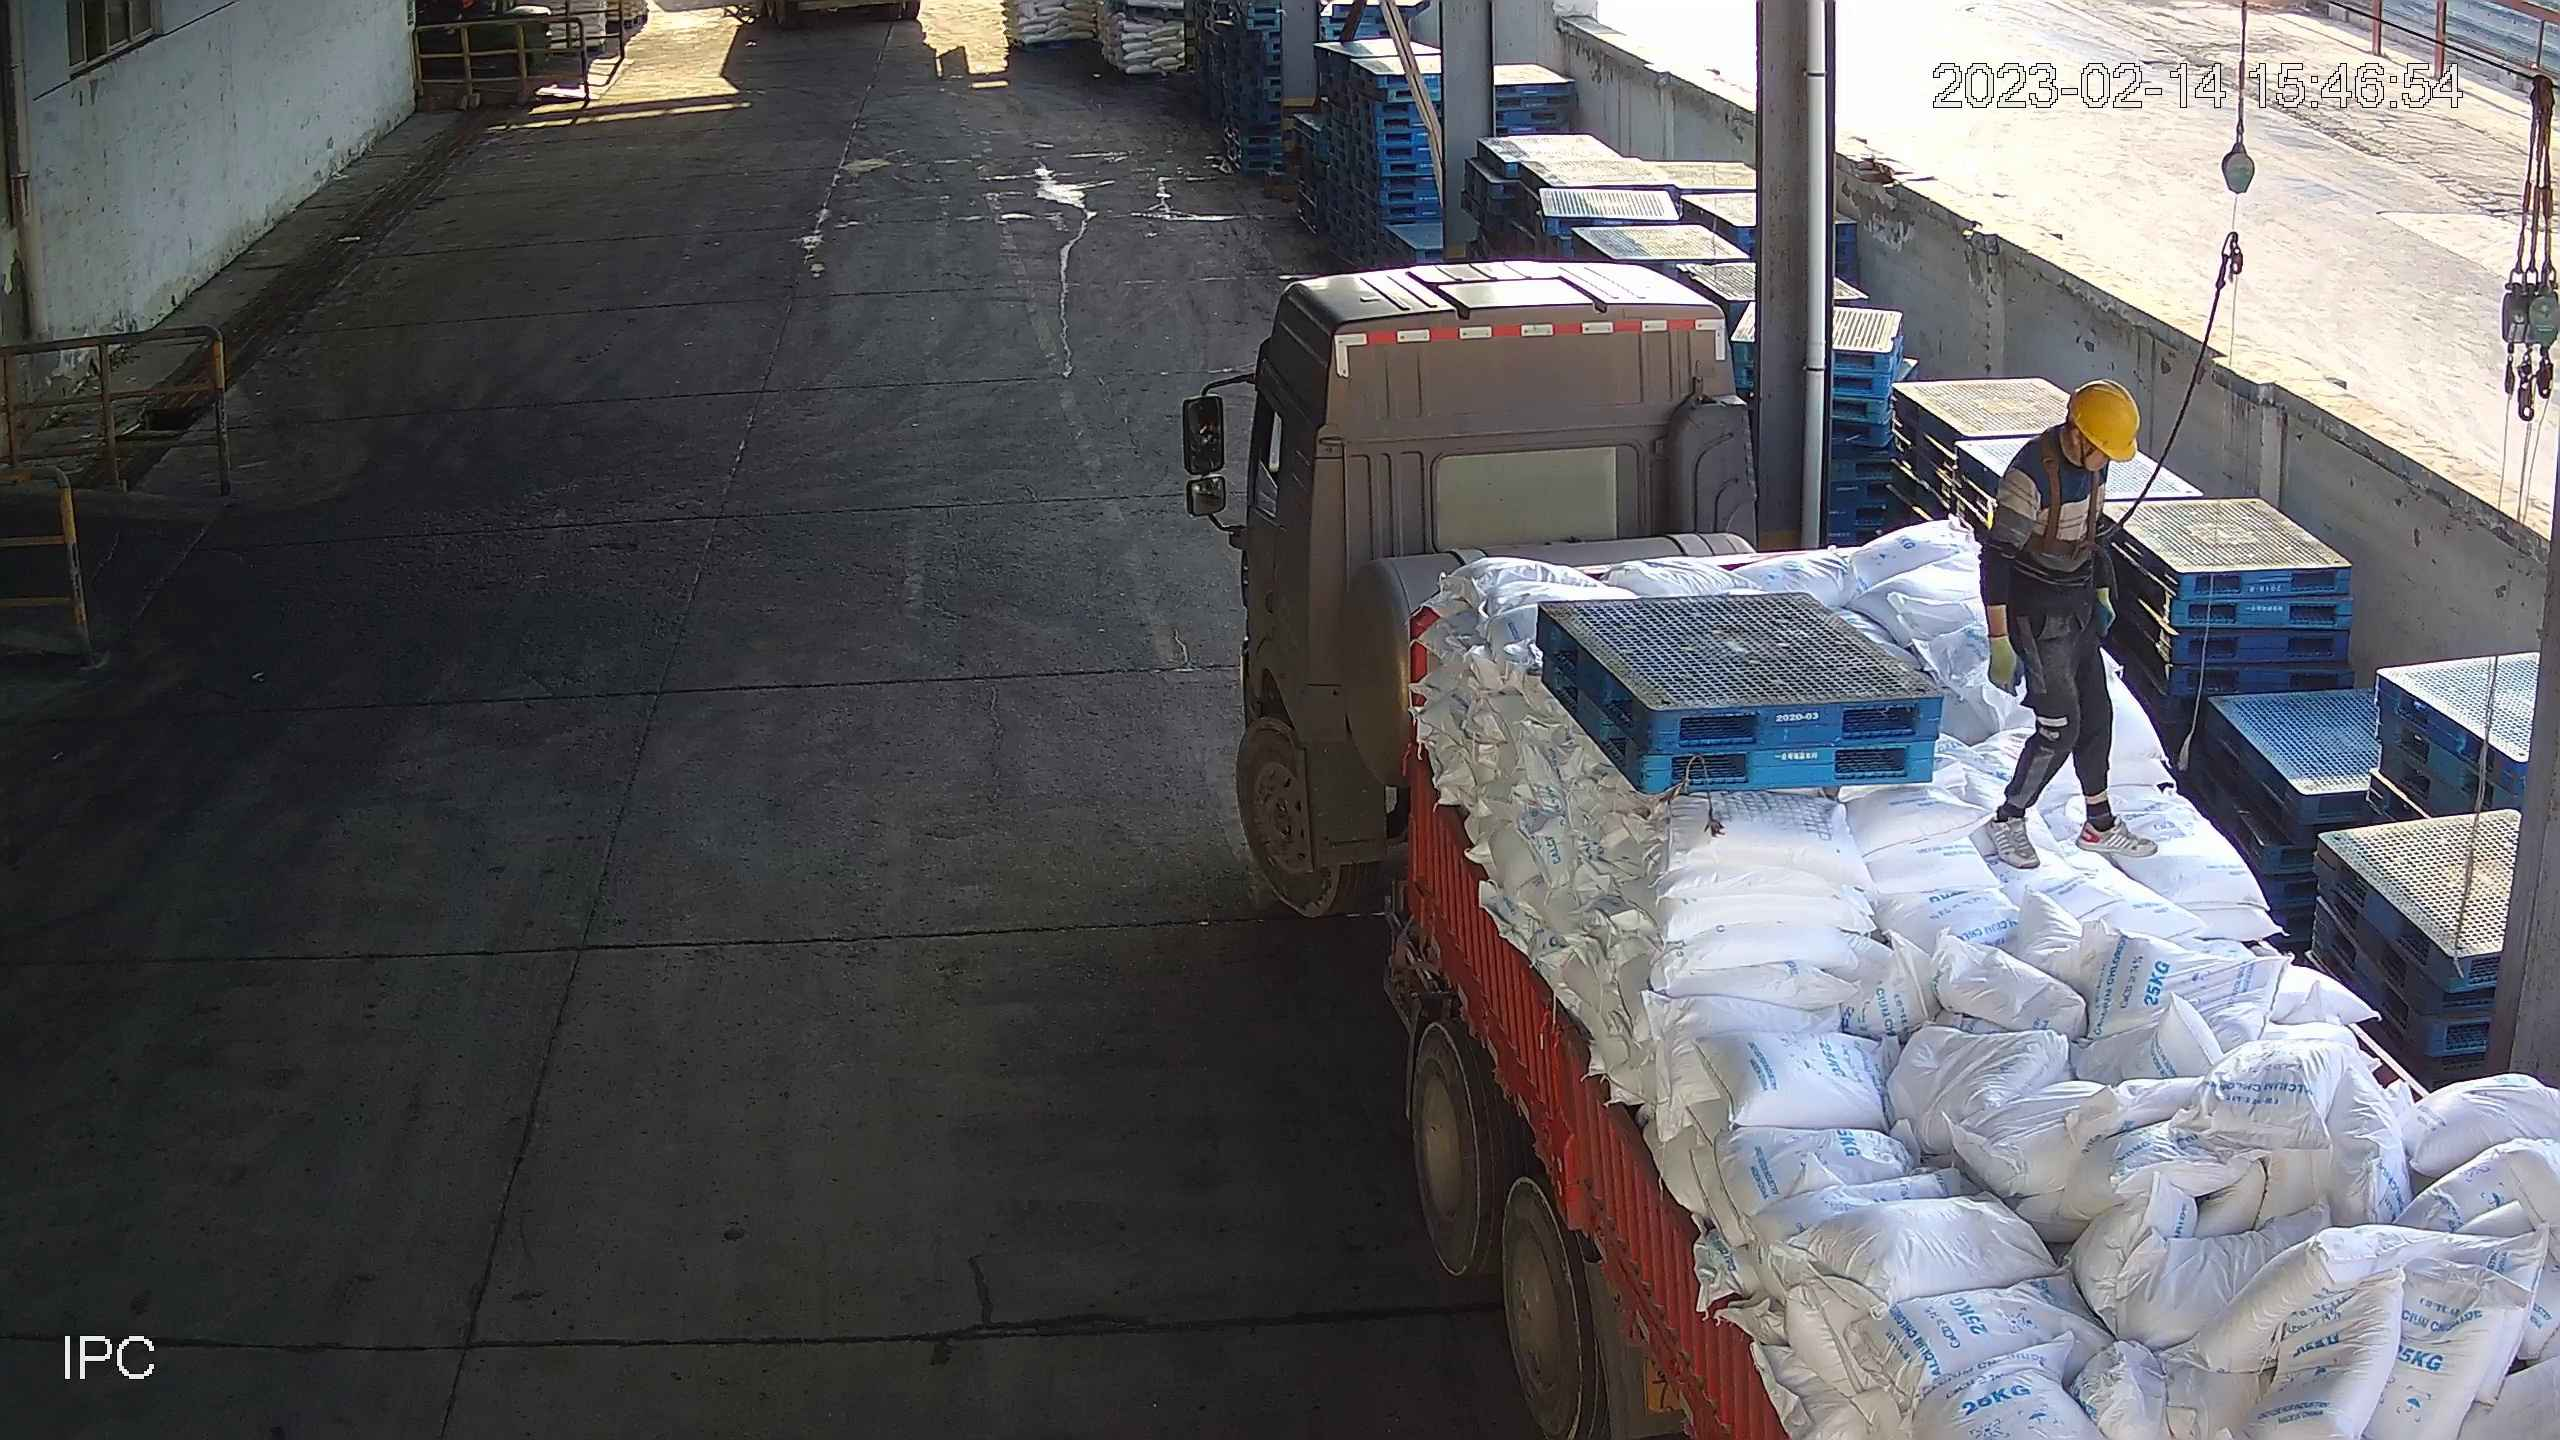belt: (2025, 427, 2133, 562)
head: (2004, 376, 2142, 513)
helmet: (2064, 376, 2142, 464)
people: (1976, 378, 2164, 871)
truck: (1230, 257, 2560, 1440)
